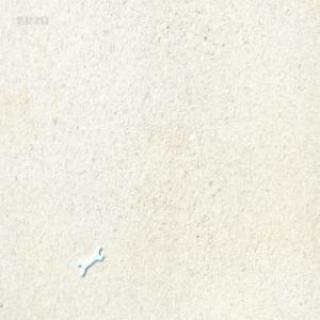Wrenchtrack_idkeyframe: (79, 247, 105, 277)
